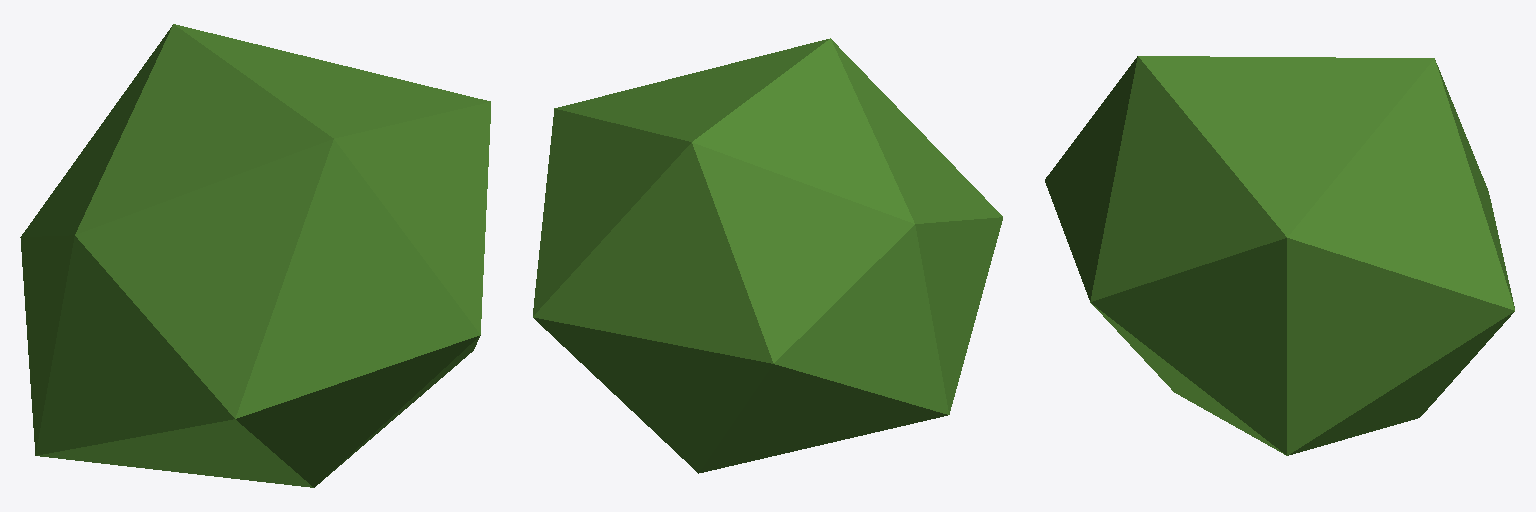
The robot description file, URDF, robot "bush":
<?xml version="1.0" encoding="utf-8"?>
<!-- Generated by tools/generate_assets.py -->
<robot name="bush">
  <link name="base_link">
    <inertial>
      <mass value="0" />
      <inertia ixx="0" ixy="0" ixz="0" iyy="0" iyz="0" izz="0" />
    </inertial>
    <visual name="part_0">
      <geometry><mesh filename="meshes/bush_v0.obj" /></geometry>
      <material name="bush_0"><color rgba="0.26 0.47 0.2 1" /></material>
    </visual>
    <visual name="part_1">
      <geometry><mesh filename="meshes/bush_v1.obj" /></geometry>
      <material name="bush_1"><color rgba="0.36 0.56 0.24 1" /></material>
    </visual>
    <collision name="hull_0">
      <geometry><mesh filename="meshes/bush_c0.obj" /></geometry>
    </collision>
    <collision name="hull_1">
      <geometry><mesh filename="meshes/bush_c1.obj" /></geometry>
    </collision>
  </link>
</robot>

--- What the picture shows (computed from the rendered views, not written in the file) ---
3 views of the same robot in one strip: view 1: azimuth 30°, elevation 25°; view 2: azimuth 150°, elevation 25°; view 3: azimuth 270°, elevation 25° (orthographic).
Robot: bush — 1 links, 0 joints (none); root link base_link; default pose: every joint at zero.
Visible links, largest first — view 1: base_link; view 2: base_link; view 3: base_link.
Link boxes in pixels (<box>): base_link: <box>20,24,490,487</box>; base_link: <box>533,38,1002,473</box>; base_link: <box>1045,56,1514,455</box>.
Size in the robot's own frame: 1.6 by 1.55 by 1.31 metres.
1 mesh visuals loaded from 2 distinct referenced files (1 OBJ); not drawn: 1 (reference not matched to a file when rendering).
